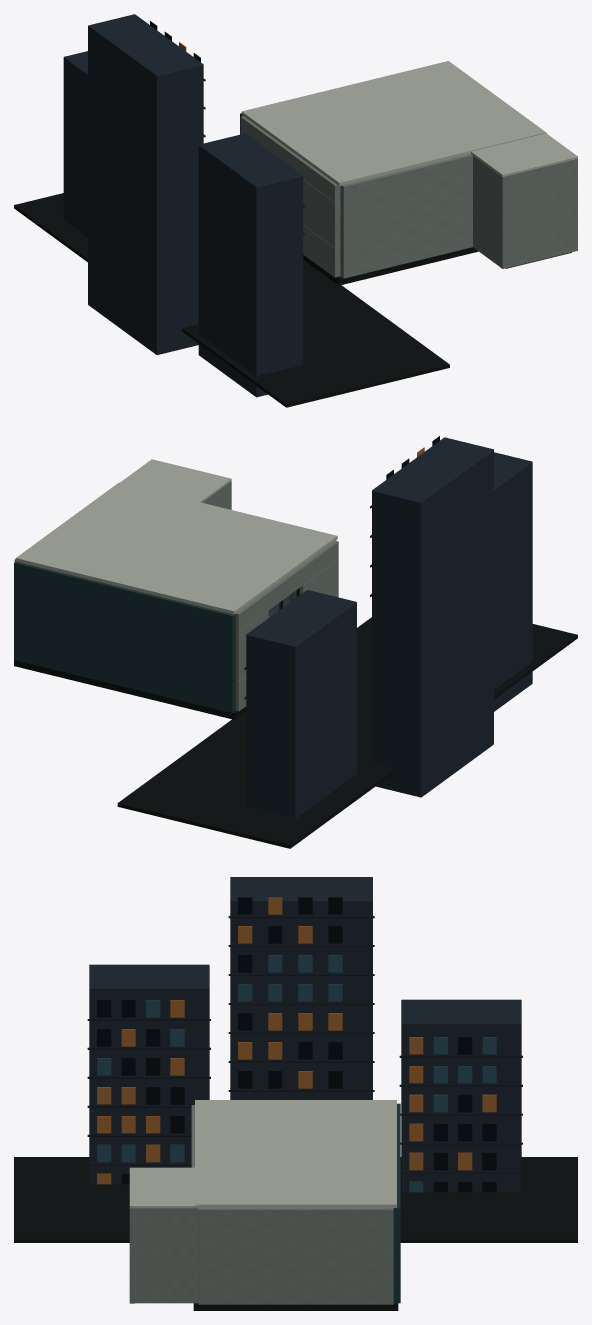
File: SignalDebt_Apartment.obj
3 renders of one model, top to bottom at view 1: azimuth 30°, elevation 25°; view 2: azimuth 150°, elevation 25°; view 3: azimuth 270°, elevation 25°, orthographic. The views are drawn at different scales.
Parts seen in each view (by area): view 1: City_Building_1, City_Building_0, Ceiling, Exterior_Alley, South_Wall_Left, Corridor_End, City_Building_2, Corridor_West, Corridor_Ceiling, West_Above_Window, West_Window_South, West_Below_Window (+1 smaller); view 2: City_Building_1, Ceiling, City_Building_2, North_Wall, Exterior_Alley, City_Building_0, Corridor_Ceiling, West_Above_Window, Foundation, West_Window_South, West_Window_North; view 3: City_Building_1, Ceiling, Exterior_Alley, East_Wall, City_Building_2, City_Building_0, Corridor_East, Corridor_Ceiling, Foundation, North_Wall, Corridor_End.
Boxes of the visible parts, <box> form: City_Building_1: <box>88,14,203,354</box>; City_Building_0: <box>198,133,303,397</box>; Ceiling: <box>241,61,546,185</box>; Exterior_Alley: <box>14,193,449,407</box>; South_Wall_Left: <box>340,154,472,278</box>; Corridor_End: <box>500,159,577,268</box>; City_Building_2: <box>63,51,87,237</box>; Corridor_West: <box>473,156,507,268</box>; Corridor_Ceiling: <box>471,133,577,176</box>; West_Above_Window: <box>240,116,340,202</box>; West_Window_South: <box>303,180,340,247</box>; West_Below_Window: <box>303,225,340,277</box>; City_Building_1: <box>372,437,493,797</box>; Ceiling: <box>15,482,337,614</box>; City_Building_2: <box>246,590,356,818</box>; North_Wall: <box>14,561,235,713</box>; Exterior_Alley: <box>117,617,577,848</box>; City_Building_0: <box>494,452,532,711</box>; Corridor_Ceiling: <box>120,459,231,502</box>; West_Above_Window: <box>236,540,338,631</box>; Foundation: <box>14,660,246,719</box>; West_Window_South: <box>301,559,338,597</box>; West_Window_North: <box>236,611,268,679</box>; City_Building_1: <box>230,877,372,1099</box>; Ceiling: <box>195,1100,396,1207</box>; Exterior_Alley: <box>14,1157,577,1242</box>; East_Wall: <box>198,1208,393,1304</box>; City_Building_2: <box>401,999,521,1191</box>; City_Building_0: <box>89,964,209,1183</box>; Corridor_East: <box>135,1208,198,1303</box>; Corridor_Ceiling: <box>129,1167,199,1208</box>; Foundation: <box>193,1303,398,1310</box>; North_Wall: <box>393,1103,400,1303</box>; Corridor_End: <box>129,1208,135,1303</box>.
Bounding box in the file's own units: 11.93 × 8.61 × 15.
